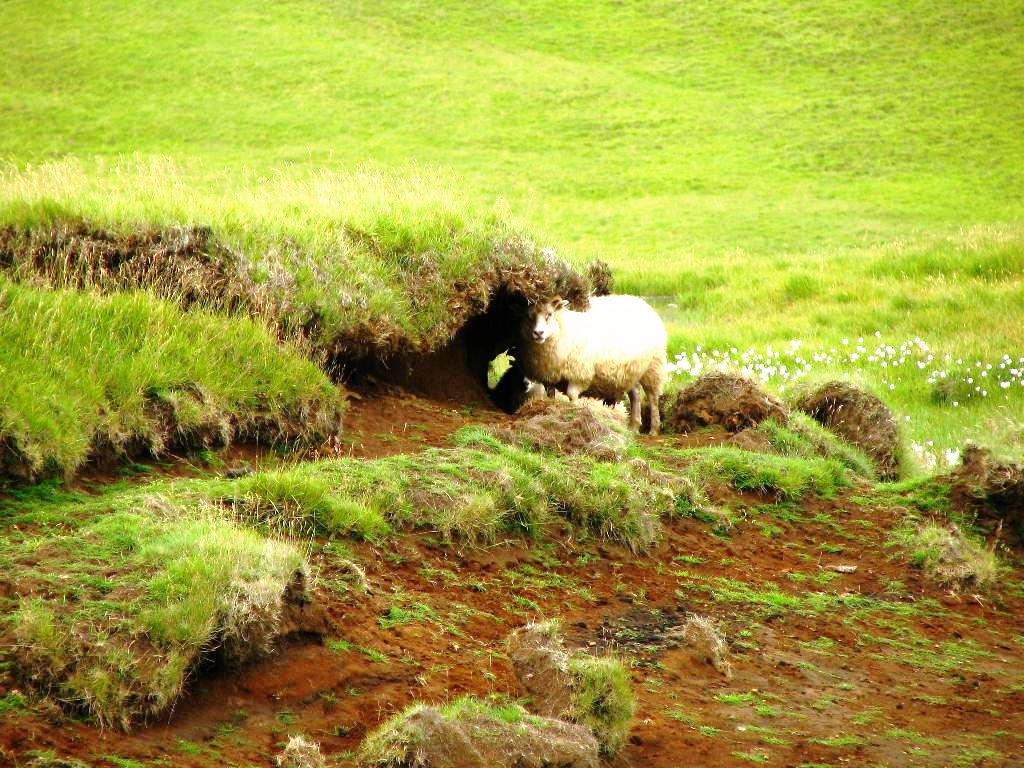Sheep: (492, 260, 661, 430)
